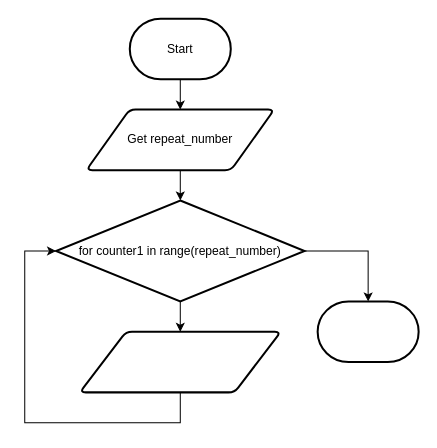
Some shapes in this 437 by 448 pixel diagram are drawn without their labels. The centre of each missing label's shape, as x and y in pixels:
Display counter1 ²: (x=179, y=361)
Stop: (x=367, y=331)
